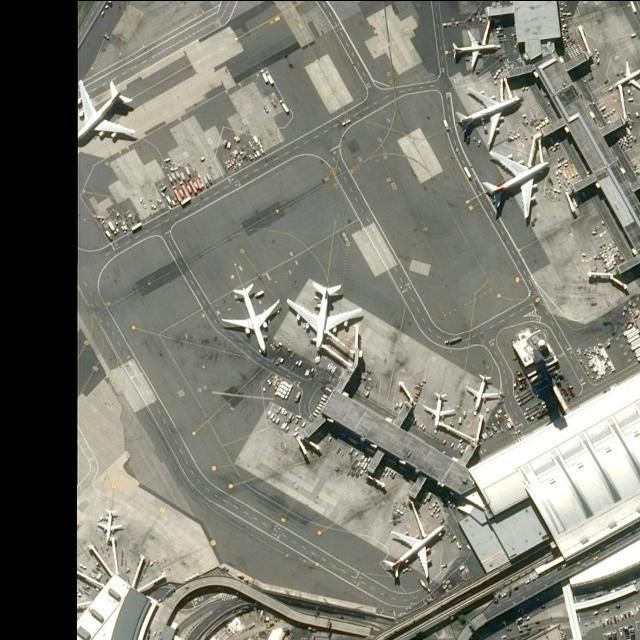Aircraft: (285, 279, 363, 357), (482, 151, 554, 224), (75, 77, 139, 151), (453, 89, 523, 147), (223, 283, 279, 355), (384, 527, 445, 585), (450, 28, 500, 72), (466, 374, 500, 414), (423, 391, 456, 429), (611, 61, 640, 95), (97, 509, 121, 545)
